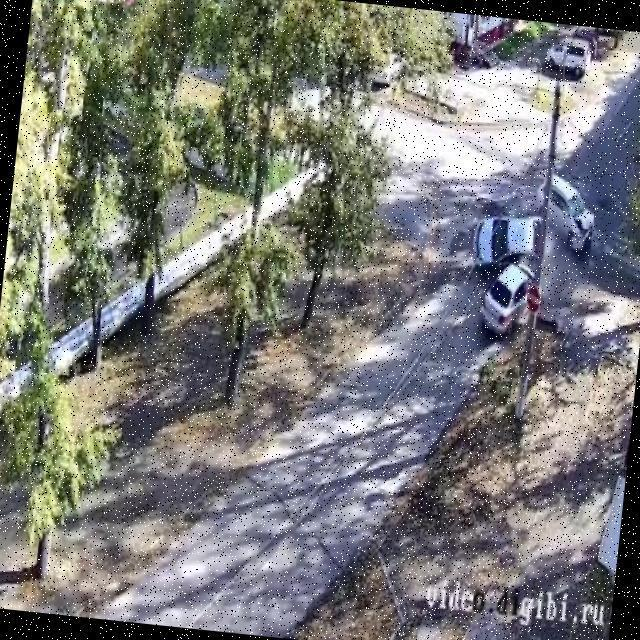accident: (455, 207, 557, 334), (512, 157, 613, 275)
